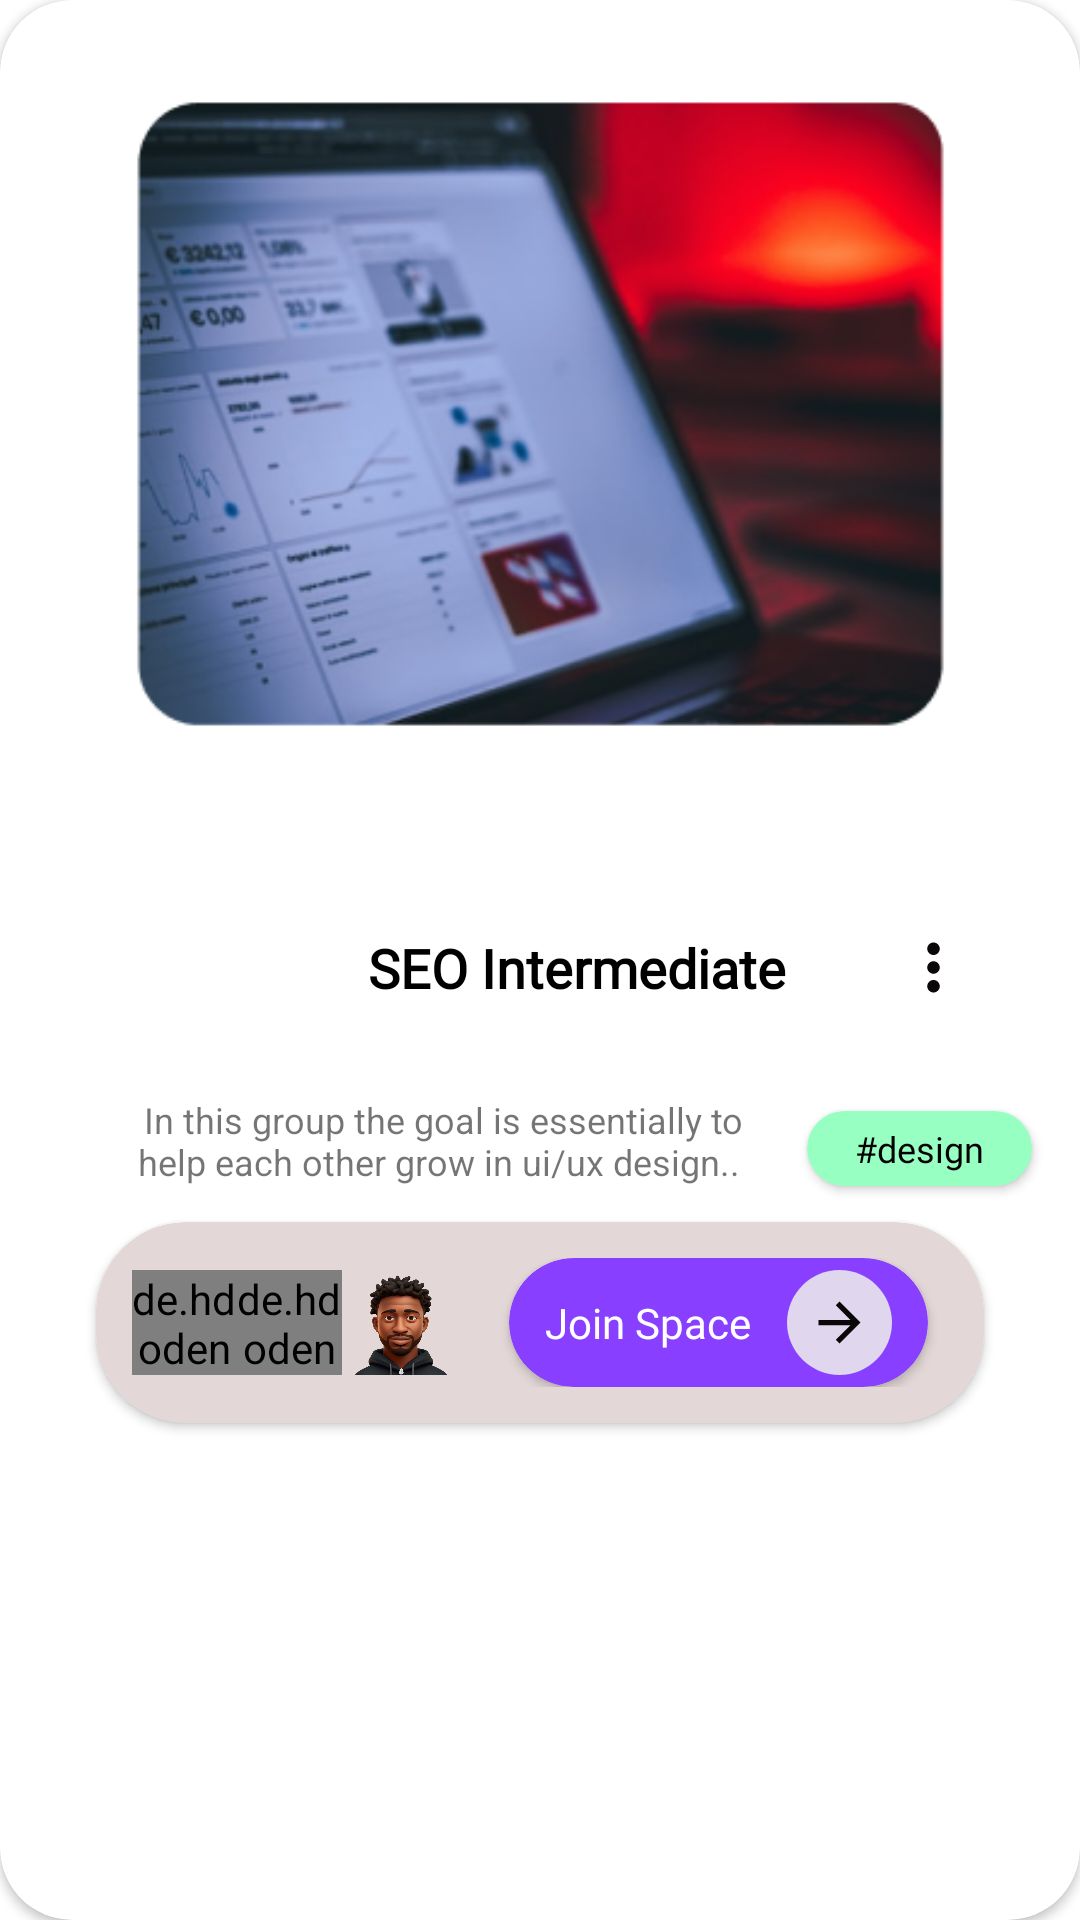

Where to tap for icons on this 1080×1920 app screen, as [x,y]:
arrow forward: [839,1322]
more vert: [933,967]
